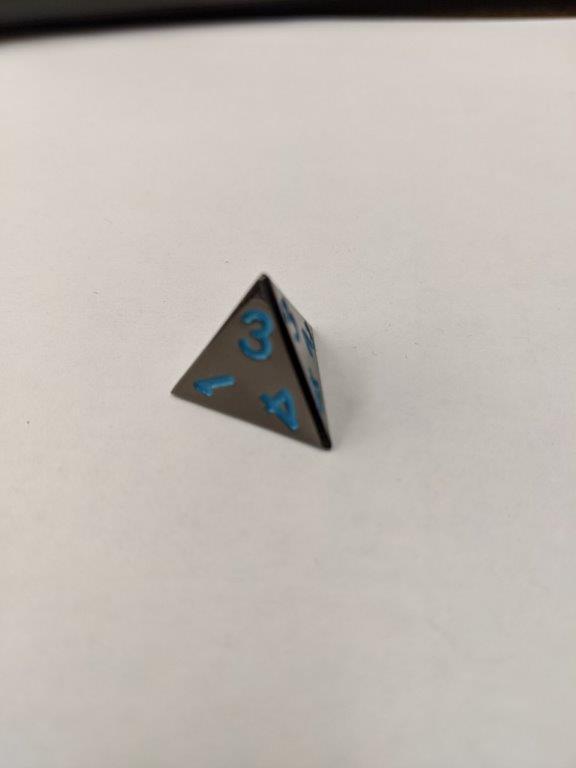d4-3: (166, 270, 336, 459)
